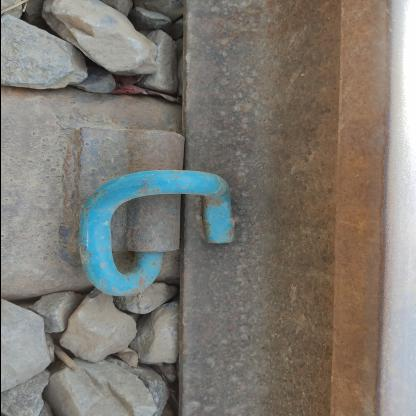Non Defective 1: (28, 104, 262, 316)
